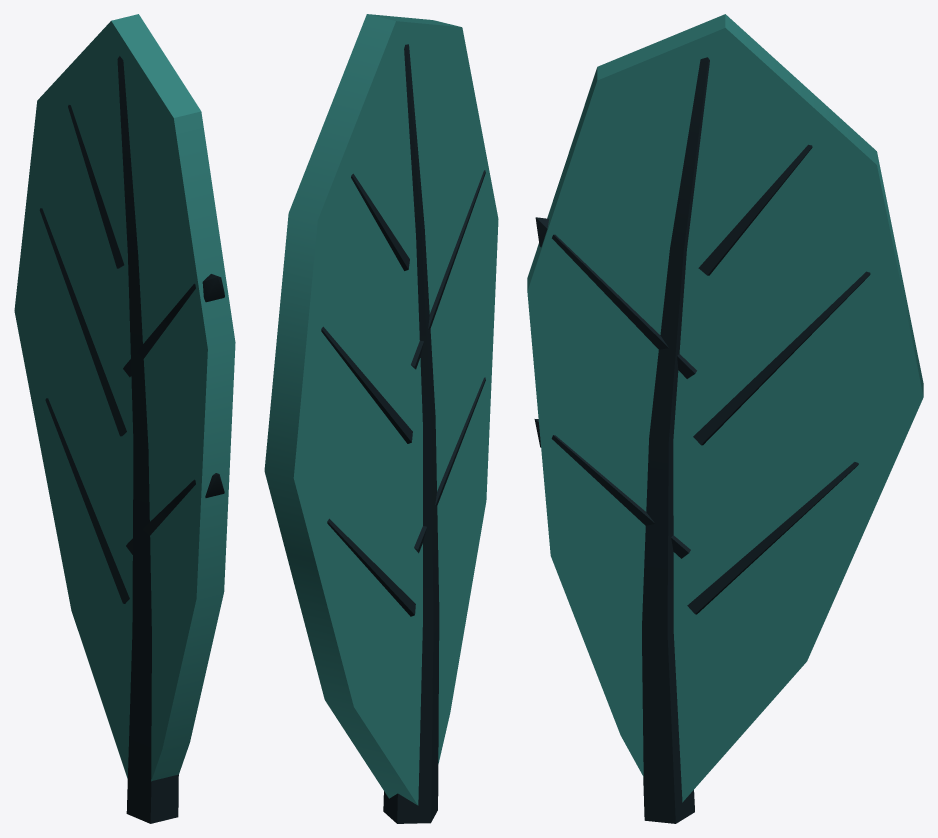
The model's file is wing_leaf.glb.
3 renders of one model, left to right at view 1: azimuth 30°, elevation 25°; view 2: azimuth 150°, elevation 25°; view 3: azimuth 270°, elevation 25°, orthographic. The views are drawn at different scales.
Visible parts, largest first — view 1: wing_leaf; view 2: wing_leaf; view 3: wing_leaf.
Part boxes in pixels (x1,y1,x2,y2): wing_leaf: (14,14,235,823); wing_leaf: (264,14,498,823); wing_leaf: (527,14,923,823).
Size of the model in its own units: 0.0457 by 0.7507 by 0.34.
